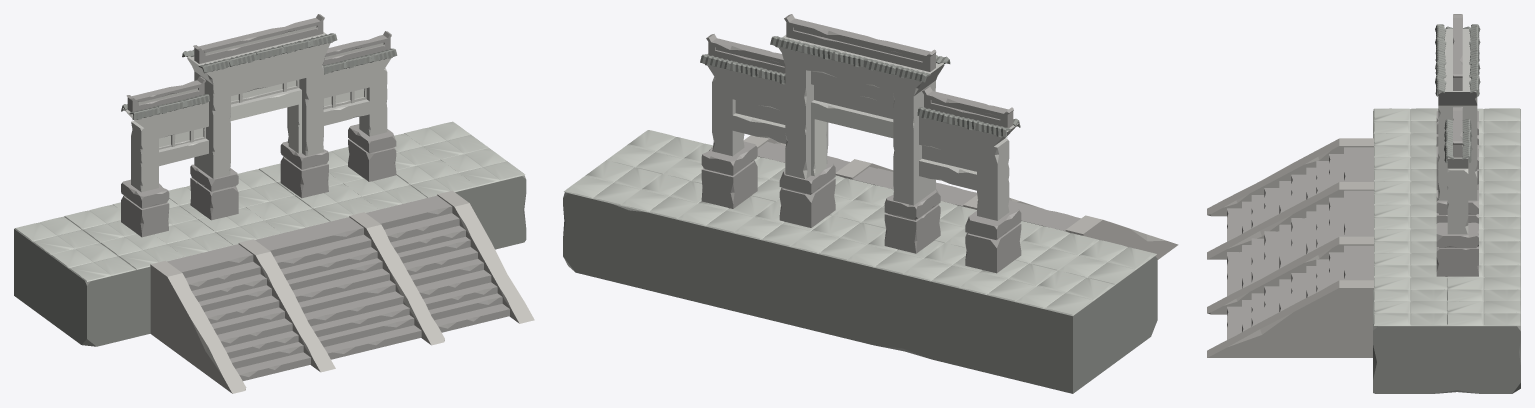
The model's file is SM_Plaque_04.fbx.
The picture shows the model from 3 angles, left to right: view 1: azimuth 30°, elevation 25°; view 2: azimuth 150°, elevation 25°; view 3: azimuth 270°, elevation 25°; orthographic projection. The views are drawn at different scales.
Parts seen in each view (by area): view 1: SM_Plaque_4; view 2: SM_Plaque_4; view 3: SM_Plaque_4.
Part boxes in pixels (left/top/right/bottom): SM_Plaque_4: left=14, top=14, right=534, bottom=393; SM_Plaque_4: left=563, top=14, right=1178, bottom=393; SM_Plaque_4: left=1207, top=14, right=1520, bottom=393.
Bounding box in the file's own units: 1892 × 971 × 1156.
